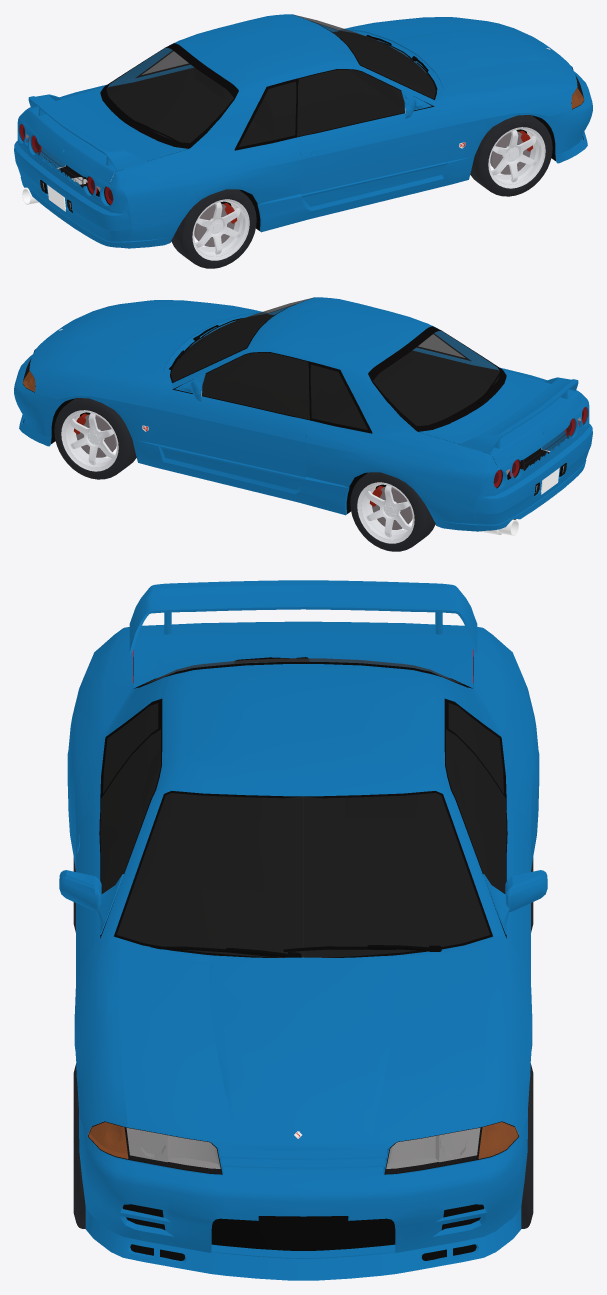
Rendered from benefitfinder.glb.
3 views of the same model, one above another, from view 1: azimuth 30°, elevation 25°; view 2: azimuth 150°, elevation 25°; view 3: azimuth 270°, elevation 25° (orthographic). The views are drawn at different scales.
Parts seen in each view (by area): view 1: CAR; view 2: CAR; view 3: CAR.
Boxes of the visible parts, x1,y1,x2,y2 form: CAR: (14,14,592,268); CAR: (14,297,592,551); CAR: (59,580,547,1280).
Bounding box in the file's own units: 4.55 × 1.34 × 1.88.
Materials: 4 (4 with a texture image).
